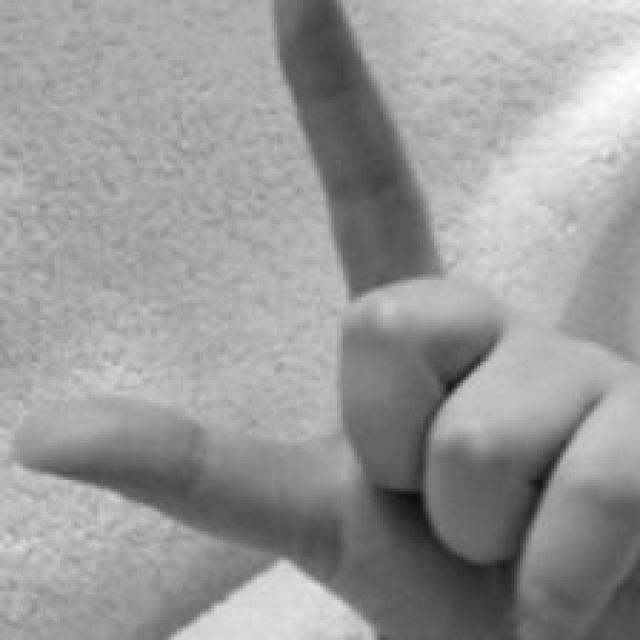L: (5, 8, 640, 640)
